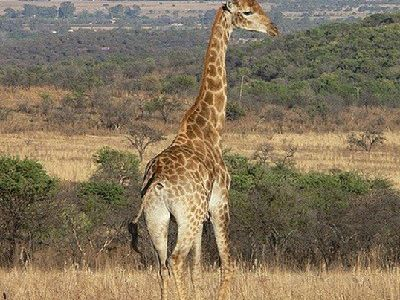Jirafa: (191, 1, 285, 143)
